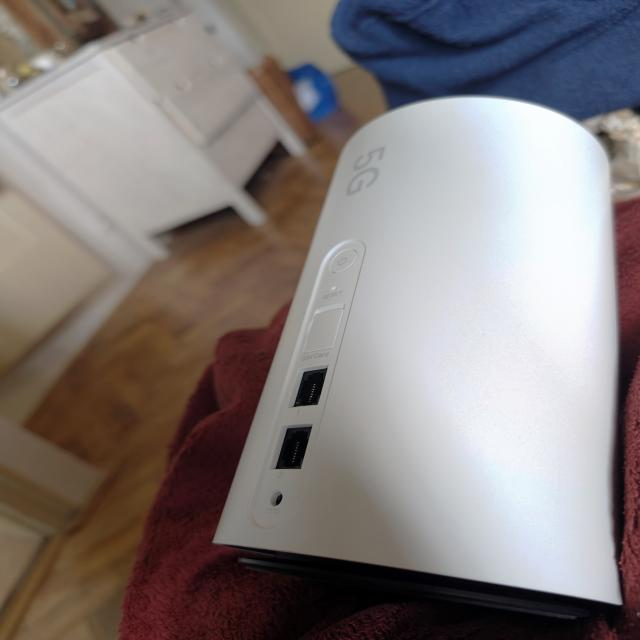lan: (266, 418, 316, 475), (280, 366, 330, 410)
modem: (210, 103, 639, 640)
onbutton: (328, 248, 358, 272)
pow: (240, 475, 312, 532)
sim: (301, 306, 348, 356)
